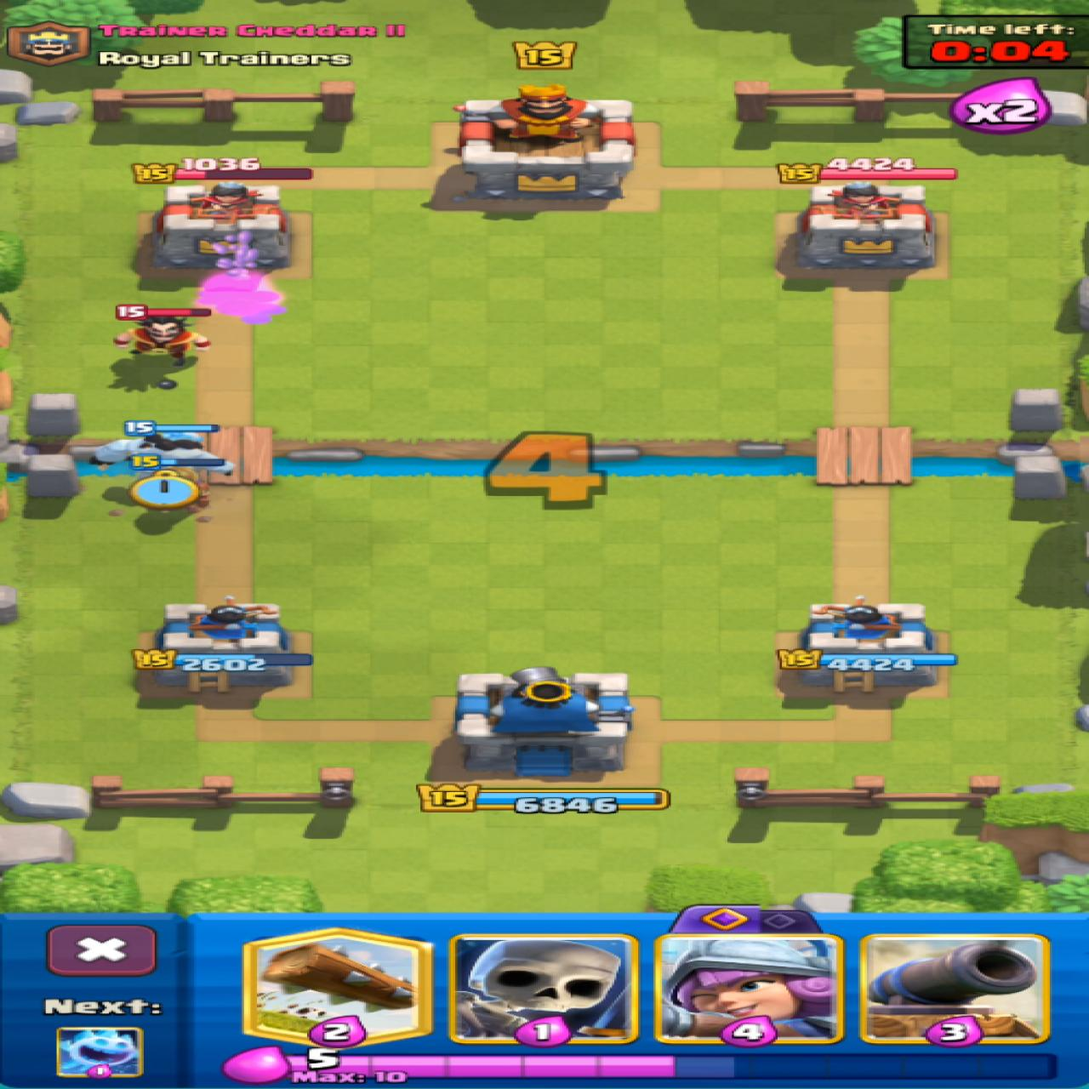Enemy-ElectroWizard: (113, 309, 209, 359)
Enemy-KingTower: (457, 81, 634, 198)
Enemy-PrincessTower: (797, 182, 932, 269), (152, 181, 287, 266)
